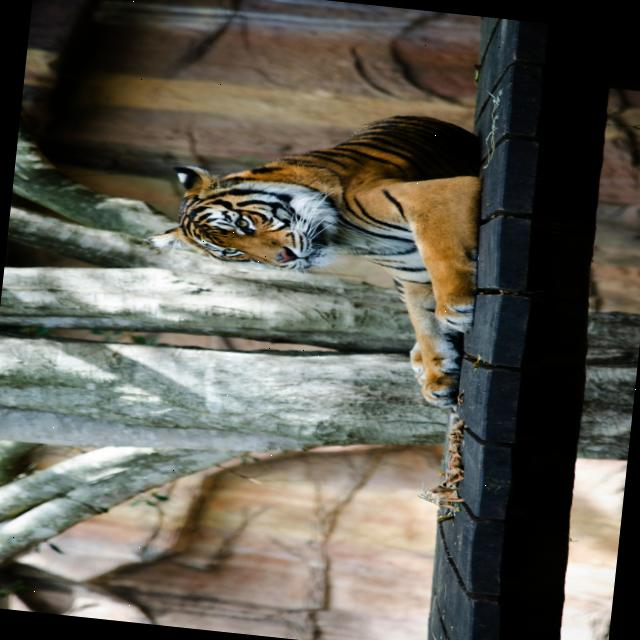Tiger: (132, 87, 495, 408)
